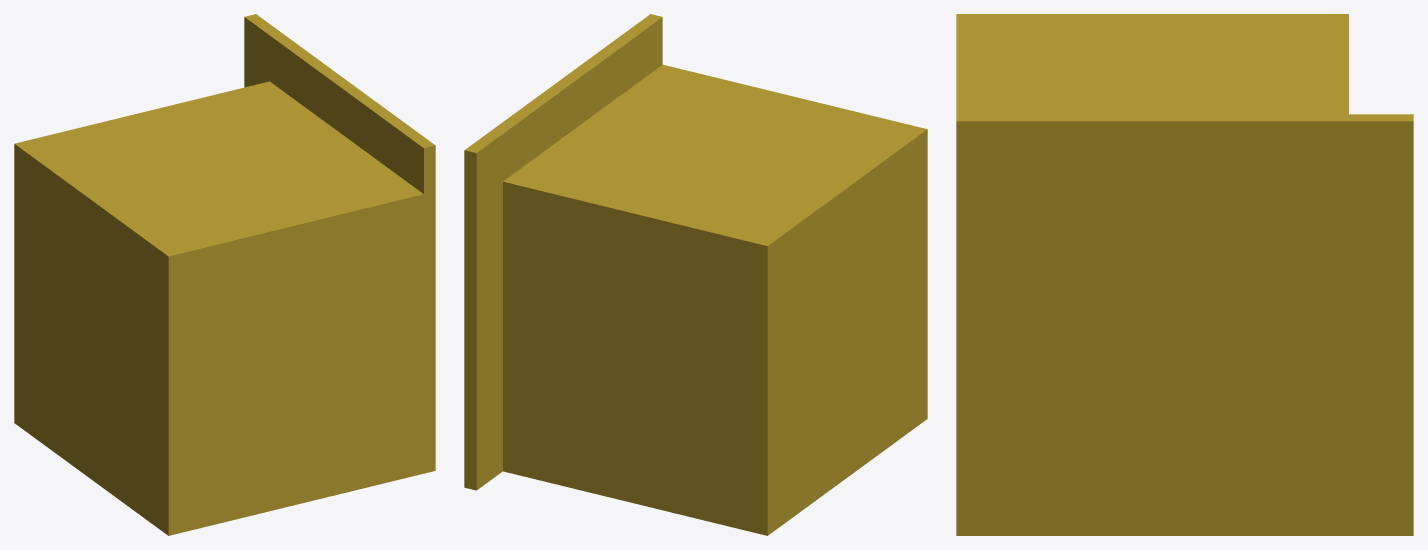
Rendered from rot4_bridge.gltf.
The picture shows the model from 3 angles, left to right: view 1: azimuth 30°, elevation 25°; view 2: azimuth 150°, elevation 25°; view 3: azimuth 270°, elevation 25°; orthographic projection. The views are drawn at different scales.
Visible parts, largest first — view 1: rot4.bridge; view 2: rot4.bridge; view 3: rot4.bridge.
Part boxes in pixels (x1,y1,x2,y2): rot4.bridge: (14,14,435,535); rot4.bridge: (464,14,927,535); rot4.bridge: (956,14,1413,535).
Bounding box in the file's own units: 4.56 × 5.31 × 5.31.
